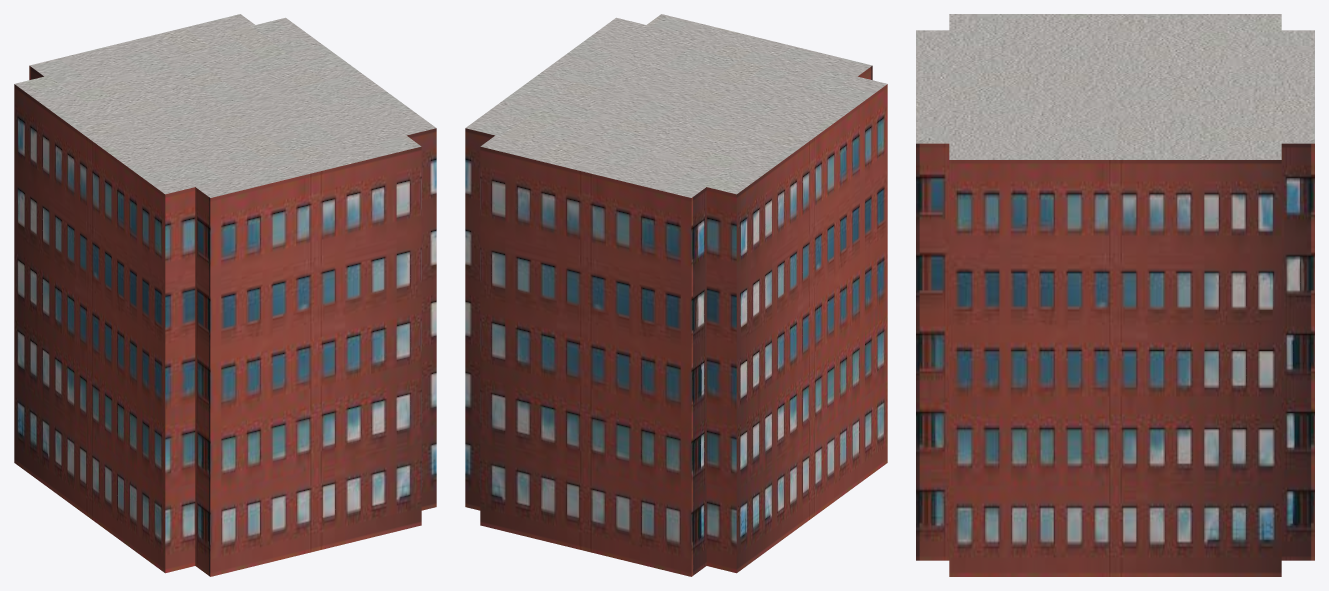
File: Building1.fbx
3 renders of one model, left to right at view 1: azimuth 30°, elevation 25°; view 2: azimuth 150°, elevation 25°; view 3: azimuth 270°, elevation 25°, orthographic. The views are drawn at different scales.
Visible parts, largest first — view 1: building_033; view 2: building_033; view 3: building_033.
Boxes of the visible parts, left/top/right/bottom form: building_033: left=14, top=14, right=436, bottom=576; building_033: left=465, top=14, right=887, bottom=576; building_033: left=916, top=14, right=1314, bottom=576.
Size of the model in its own units: 1350 by 1800 by 1560.
Materials: 2 (2 with a texture image).
